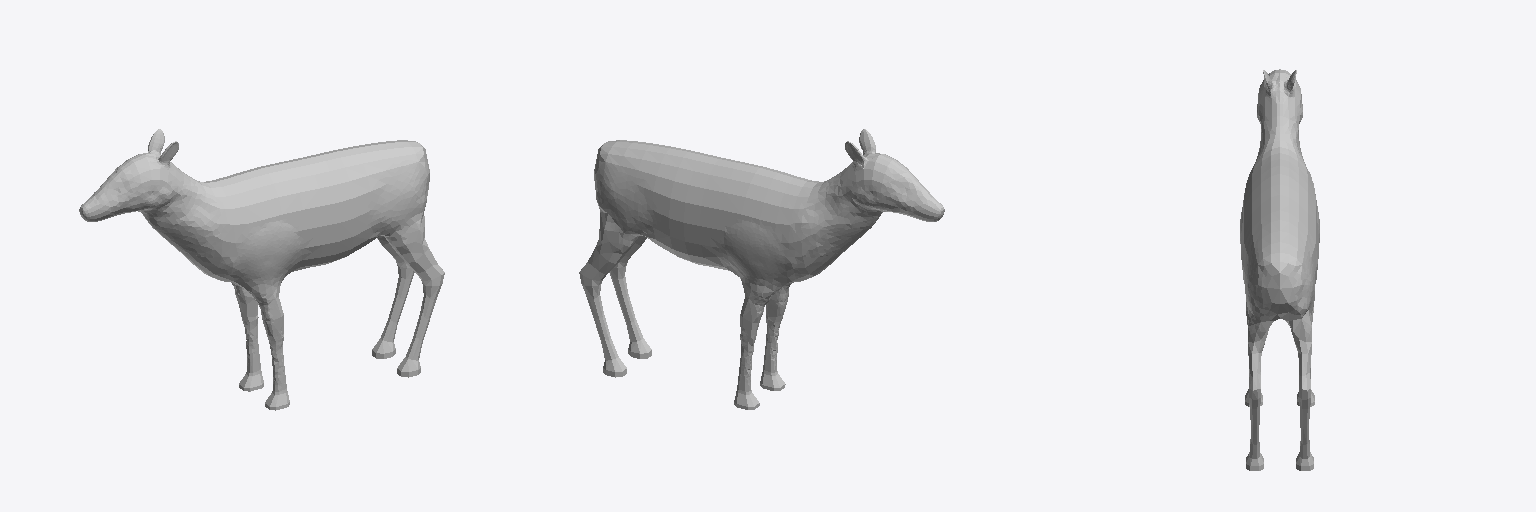
The model's file is deer_base_hull.obj.
3 renders of one model, left to right at view 1: azimuth 30°, elevation 25°; view 2: azimuth 150°, elevation 25°; view 3: azimuth 270°, elevation 25°, orthographic.
Visible parts, largest first — view 1: deer_object; view 2: deer_object; view 3: deer_object.
Part boxes in pixels (x1,y1,x2,y2): deer_object: (79, 129, 444, 410); deer_object: (579, 129, 944, 409); deer_object: (1240, 69, 1319, 470).
Size of the model in its own units: 4.29 by 3.33 by 0.8536.